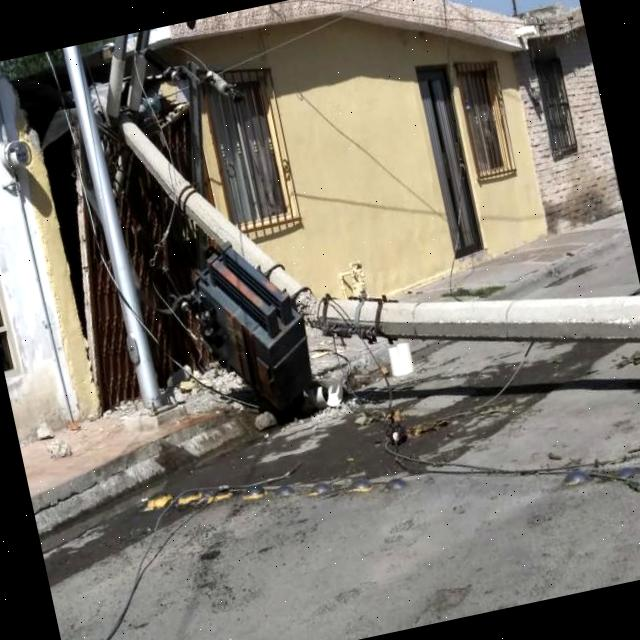Broken Pole: (0, 49, 640, 402)
